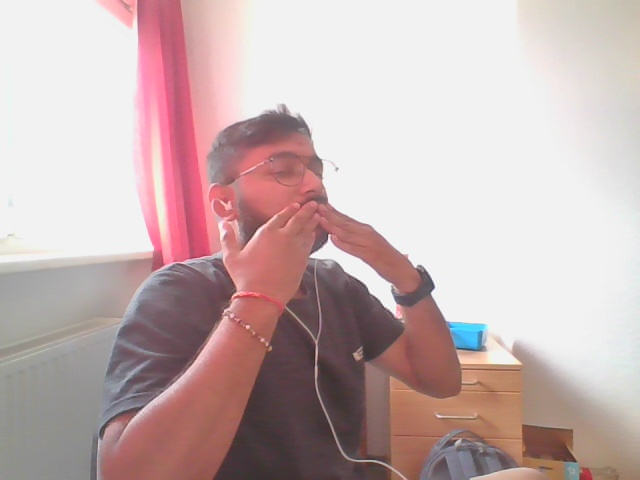ThankYou: (222, 203, 413, 286)
